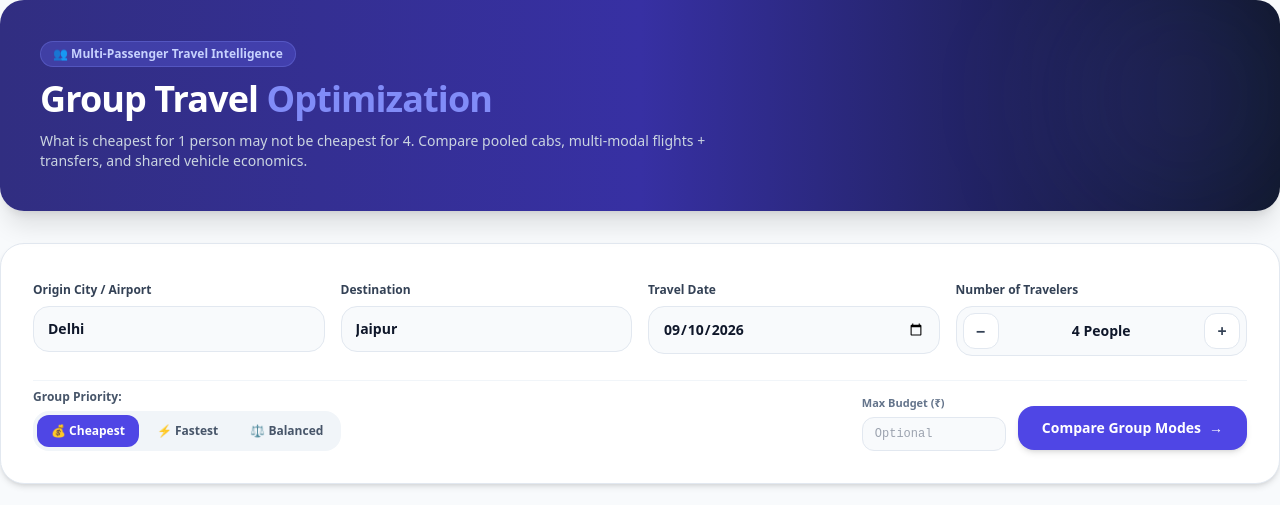
Test case: Phase 33: Group Travel Optimization Component › increments and decrements traveler count stepper correctly
Click the button named "Increase travelers" at (1222, 331), box [1204,313,1240,349]
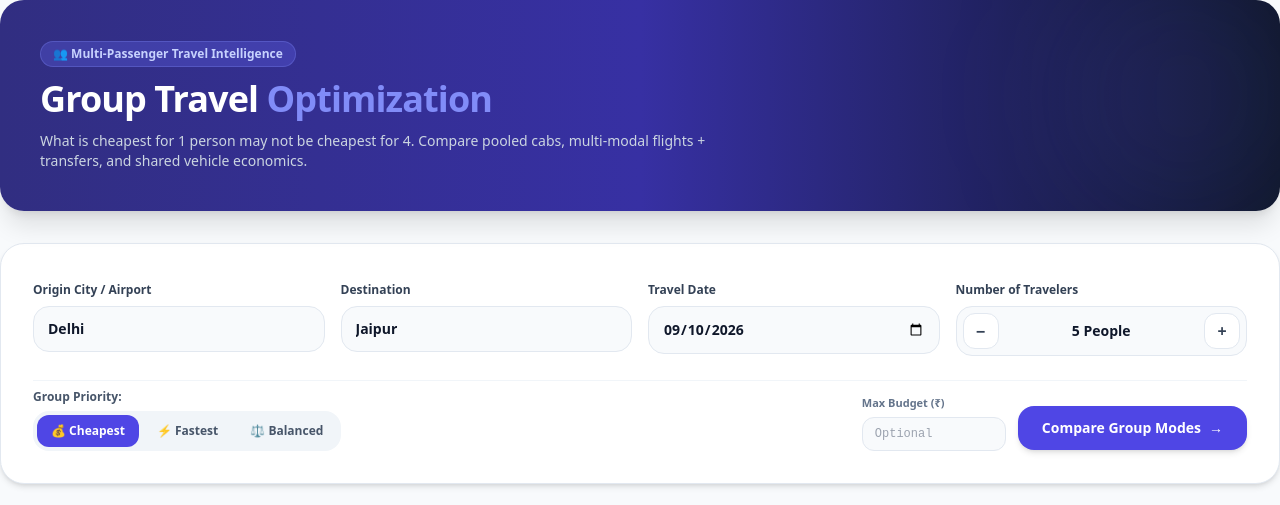
expect the text "5 People" is shown: met, box [1072,321,1131,340]
Click the button named "Decrease travelers" at (980, 331), box [962,313,998,349]
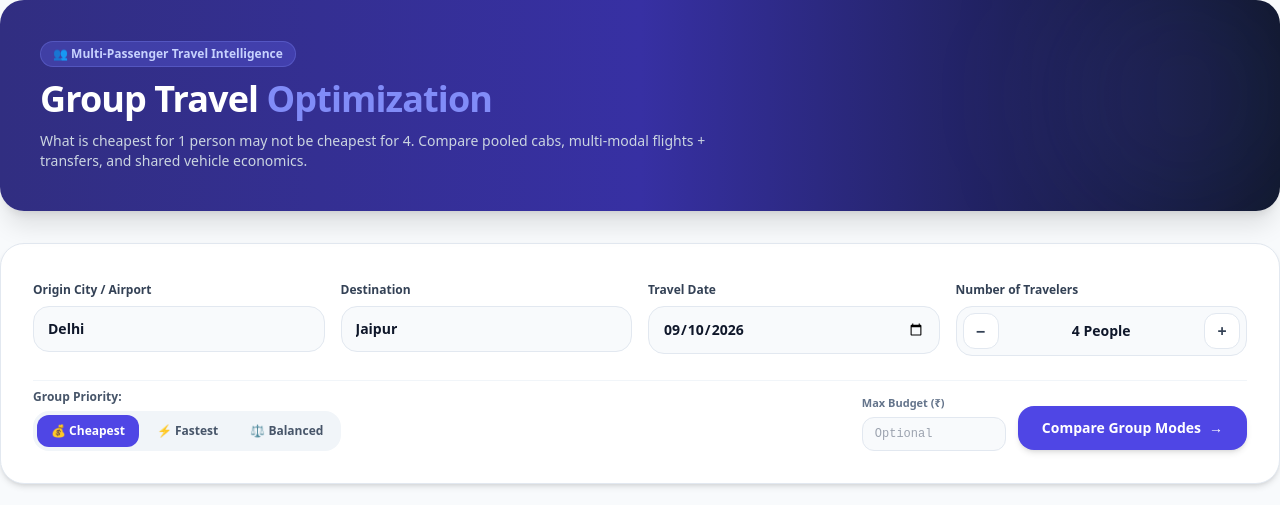
expect the text "4 People" is shown: met, box [1072,321,1131,340]
